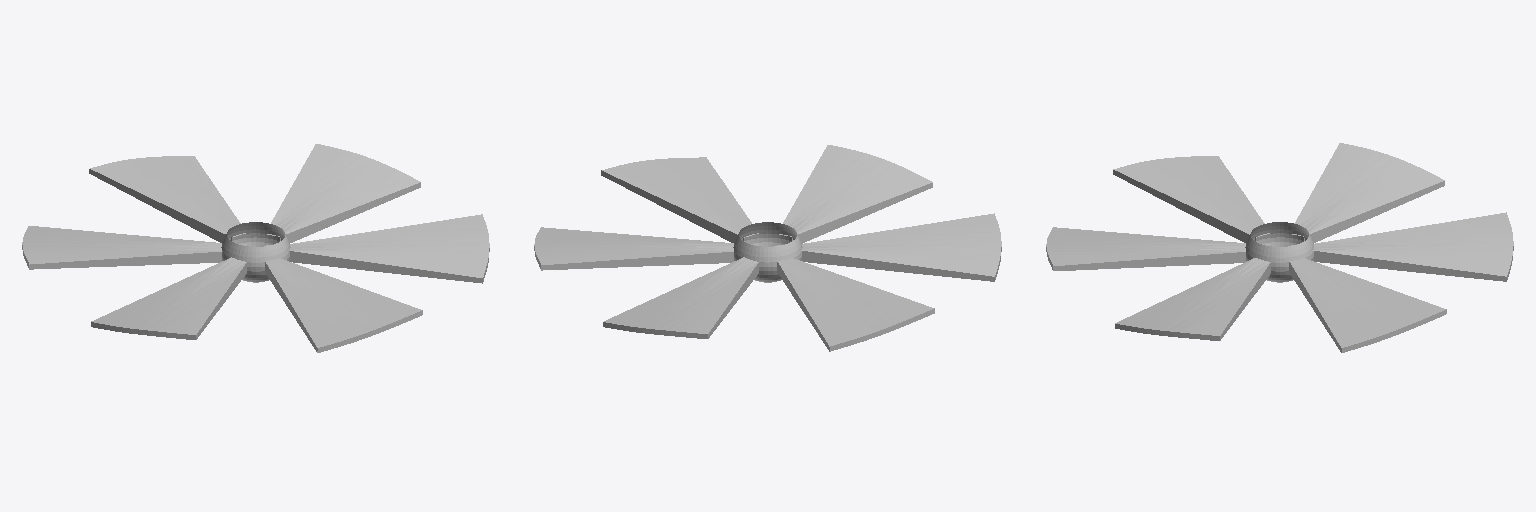
Rendered from prop.obj.
The picture shows the model from 3 angles: view 1: azimuth 30°, elevation 25°; view 2: azimuth 150°, elevation 25°; view 3: azimuth 270°, elevation 25°; orthographic projection.
Parts seen in each view (by area): view 1: Rotor_L_Cube.007; view 2: Rotor_L_Cube.007; view 3: Rotor_L_Cube.007.
Boxes of the visible parts, x1,y1,x2,y2 form: Rotor_L_Cube.007: [22, 144, 489, 352]; Rotor_L_Cube.007: [534, 145, 1001, 351]; Rotor_L_Cube.007: [1046, 143, 1513, 352].
Bounding box in the file's own units: 0.2177 × 0.0229 × 0.2241.